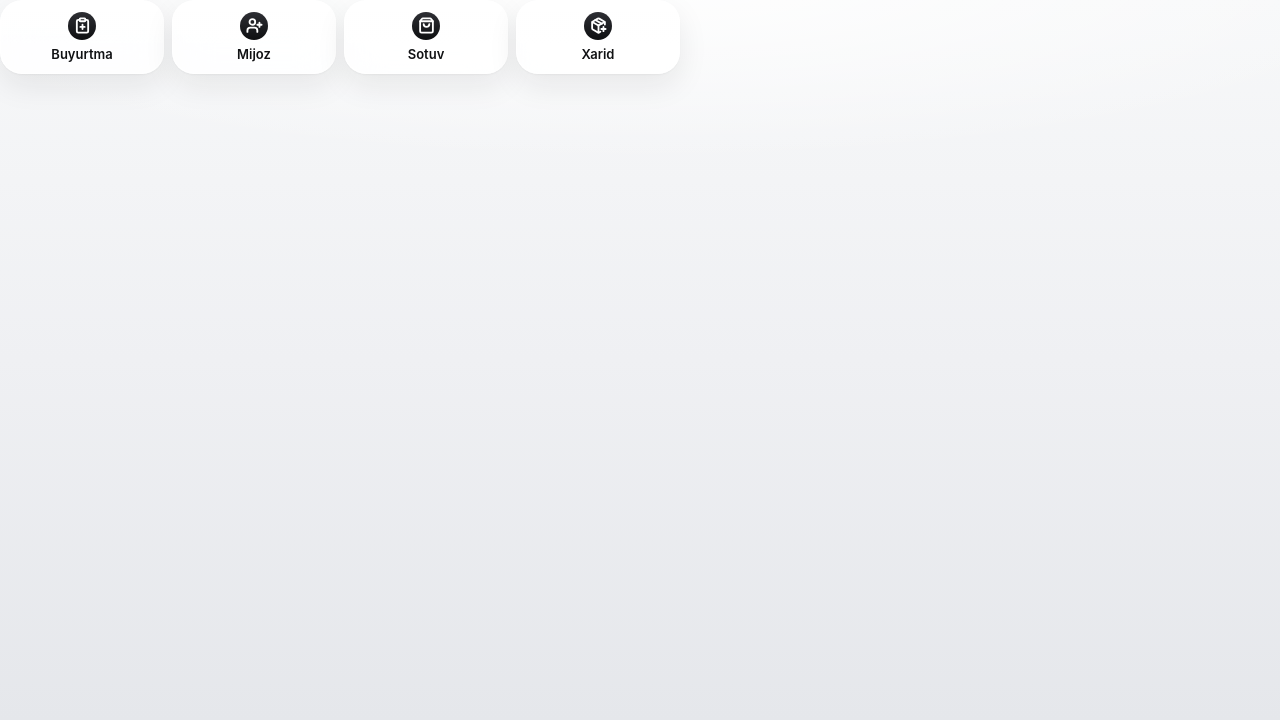
Test: Mijoz enters a customer right from the home
What coordinates should you click on to do the following:
click the button "Mijoz"
I would click on:
 (254, 37)
Its box is [172, 0, 336, 74].
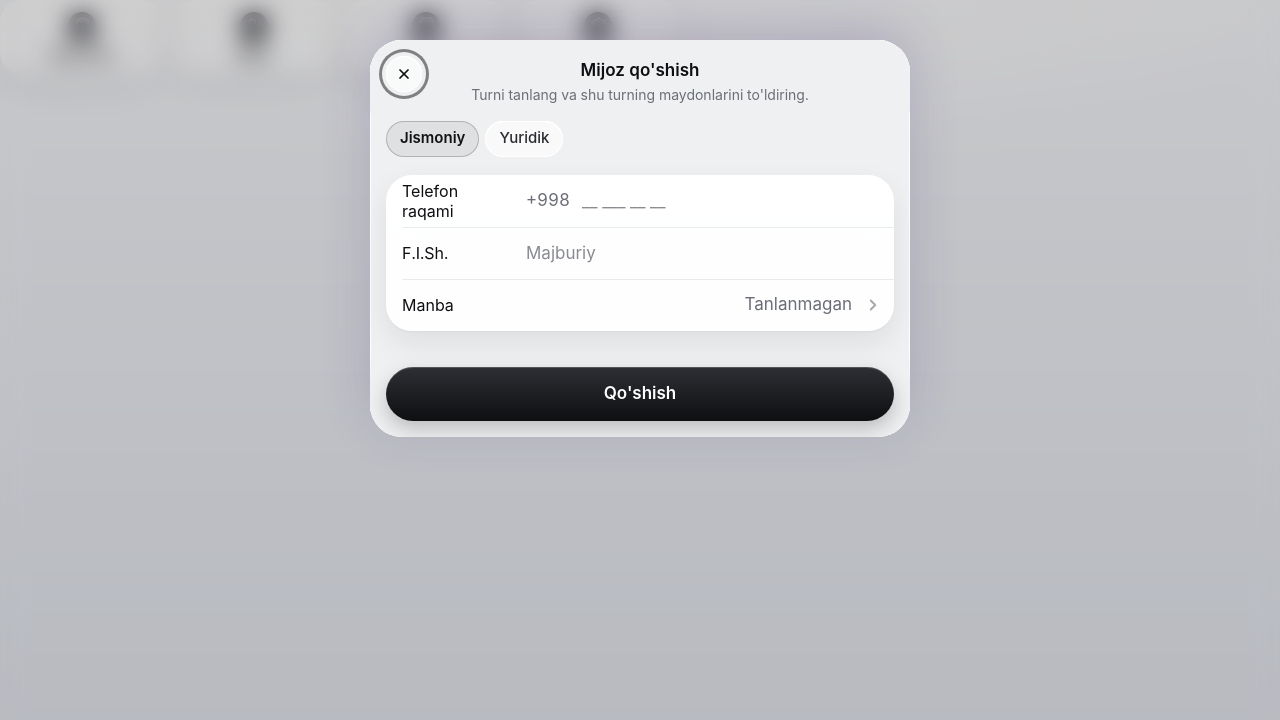
Expected: the dialog "Mijoz qo'shish" is shown, [370, 40, 910, 436]
